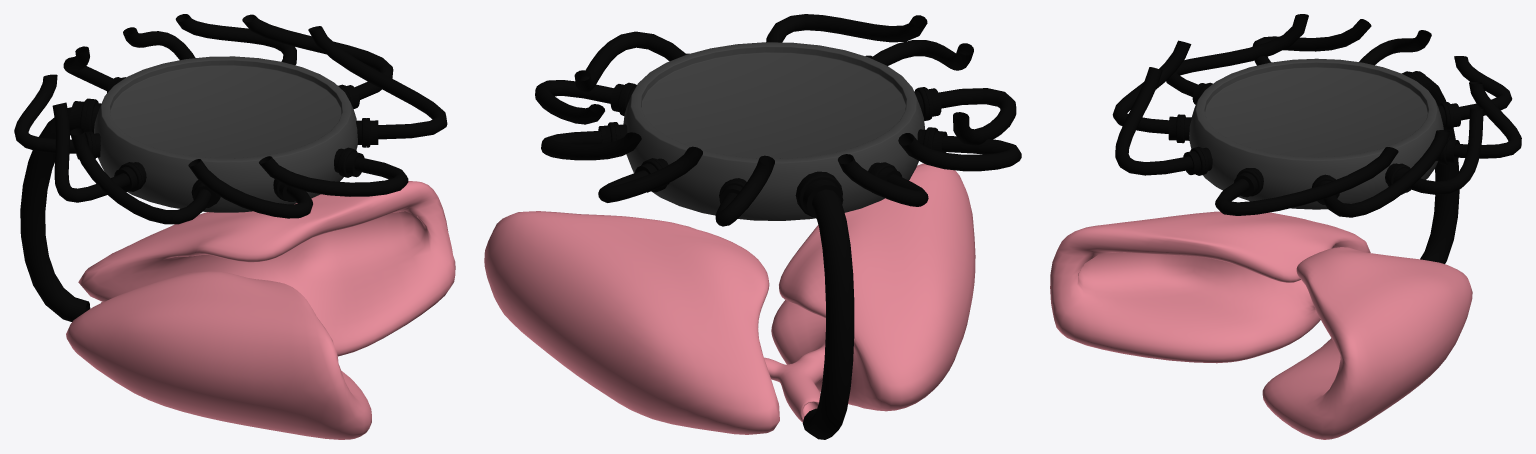
File: Lung.fbx
3 renders of one model, left to right at view 1: azimuth 30°, elevation 25°; view 2: azimuth 150°, elevation 25°; view 3: azimuth 270°, elevation 25°, orthographic. The views are drawn at different scales.
Visible parts, largest first — view 1: Cube.267, Cylinder.116, BezierCurve.123, BezierCurve.124, Cylinder.124; view 2: Cube.267, Cylinder.116, BezierCurve.123, BezierCurve.124, Cylinder.124; view 3: Cube.267, Cylinder.116, BezierCurve.123, Cylinder.124, BezierCurve.124.
Part boxes in pixels (left/top/right/bottom): Cube.267: left=66, top=181, right=455, bottom=439; Cylinder.116: left=94, top=56, right=357, bottom=212; BezierCurve.123: left=14, top=14, right=447, bottom=224; BezierCurve.124: left=20, top=107, right=90, bottom=321; Cylinder.124: left=69, top=62, right=378, bottom=207; Cube.267: left=484, top=163, right=975, bottom=434; Cylinder.116: left=623, top=42, right=924, bottom=220; BezierCurve.123: left=535, top=14, right=1021, bottom=226; BezierCurve.124: left=802, top=189, right=854, bottom=439; Cylinder.124: left=598, top=53, right=947, bottom=218; Cube.267: left=1050, top=211, right=1472, bottom=439; Cylinder.116: left=1189, top=58, right=1443, bottom=209; BezierCurve.123: left=1112, top=14, right=1521, bottom=217; Cylinder.124: left=1168, top=71, right=1460, bottom=205; BezierCurve.124: left=1420, top=77, right=1459, bottom=263.
Size of the model in its own units: 68.27 by 42.61 by 68.09.
